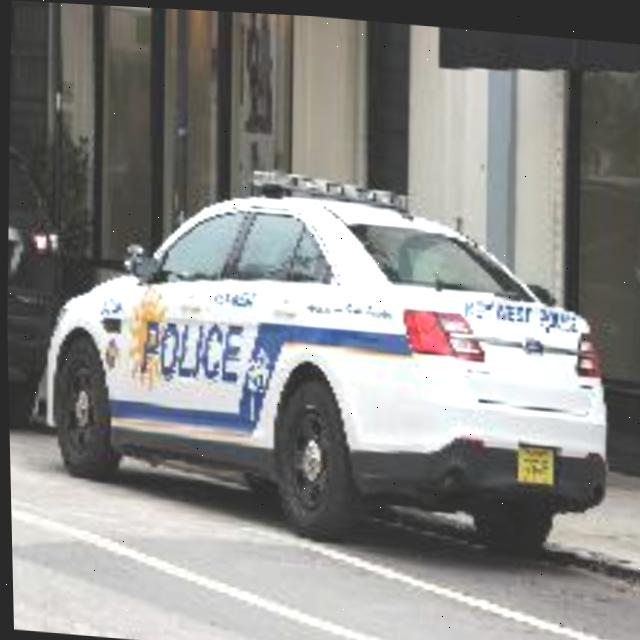emergency: (37, 153, 628, 551)
